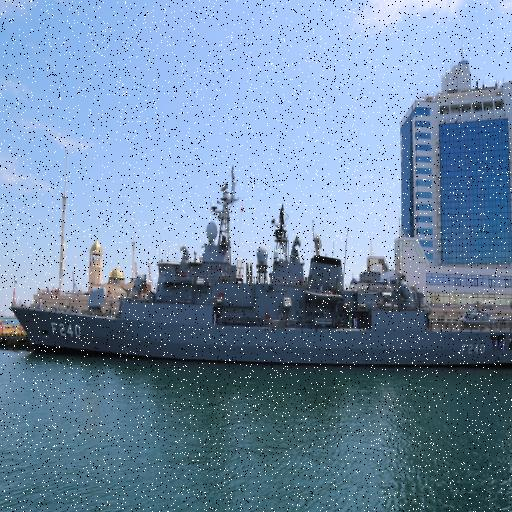Fragata: (9, 198, 512, 376)
